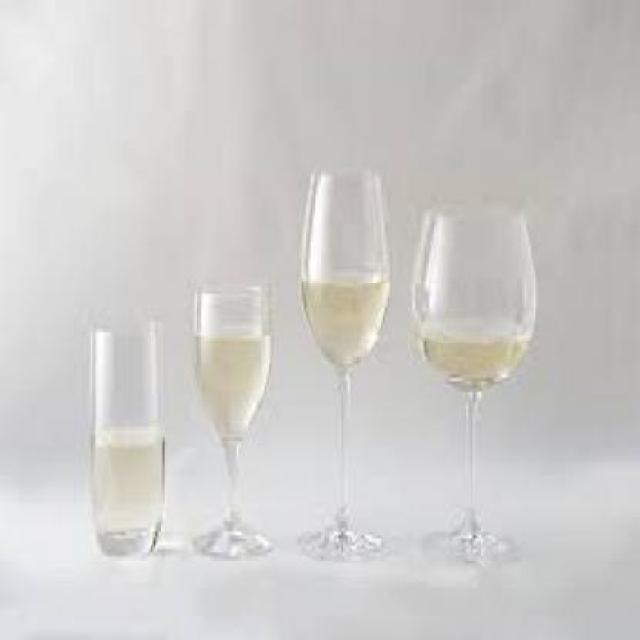kaca: (411, 206, 534, 566), (292, 165, 390, 560), (188, 280, 274, 549), (86, 315, 165, 557)
